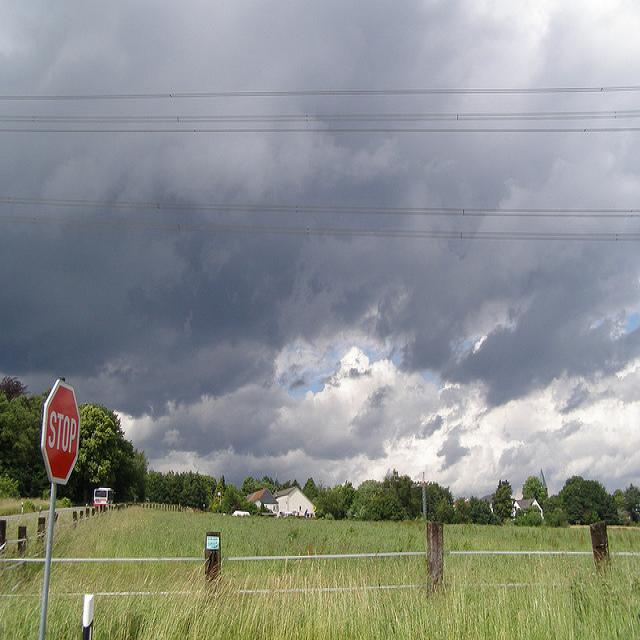Vehicle: (93, 488, 115, 506), (262, 513, 277, 518)
